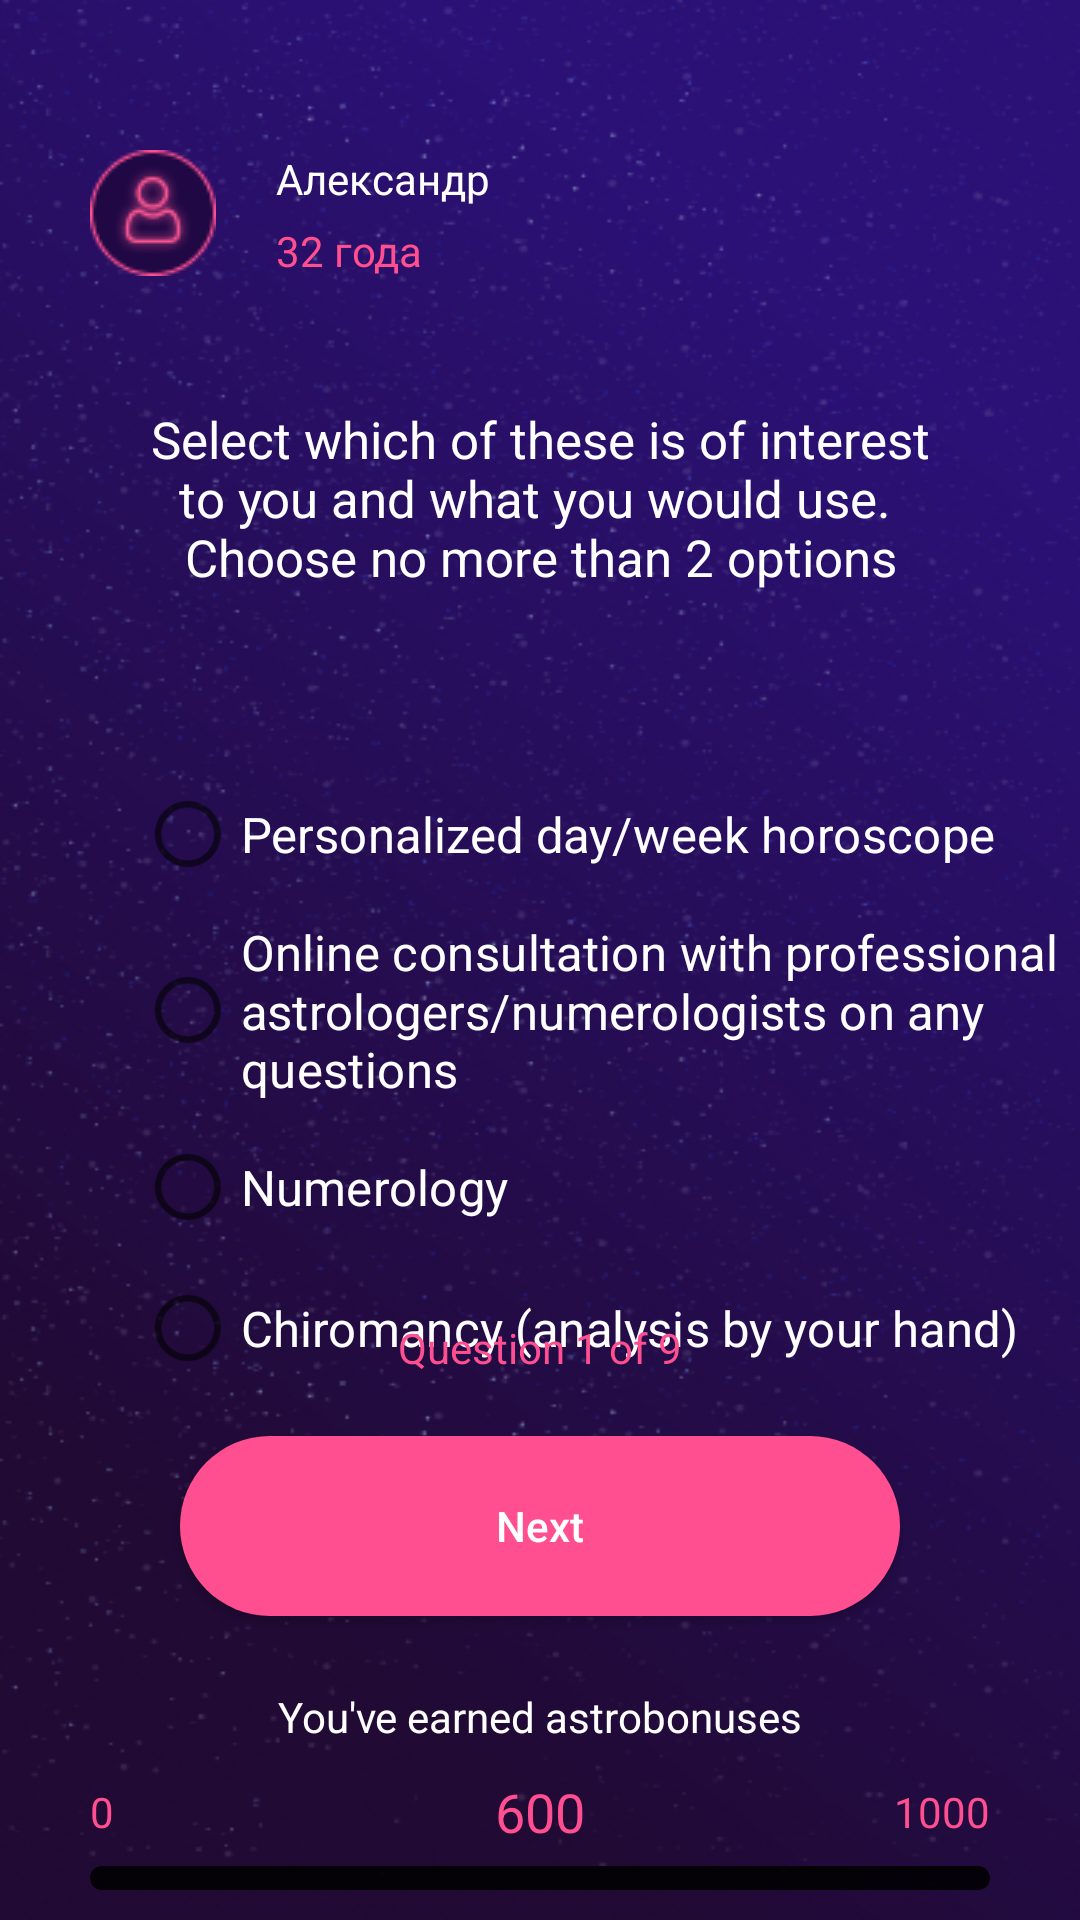

Screen size 1080 x 1920. Icon name, then its center in pixels as (x,y):
user: (153,213)
